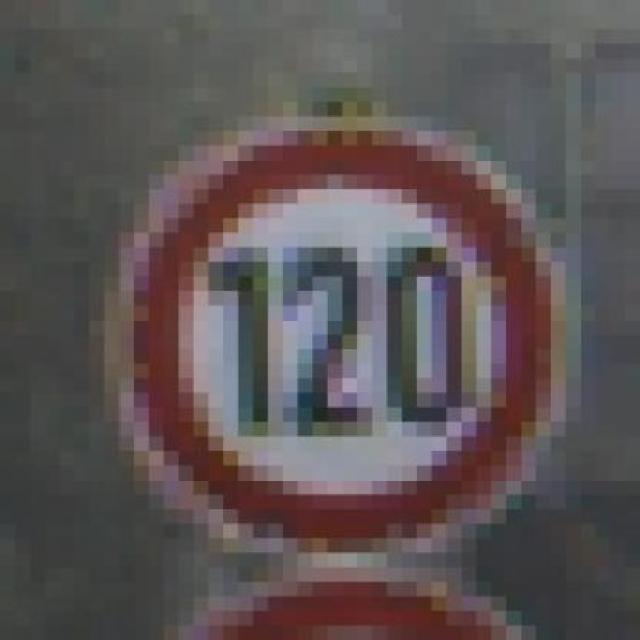forb_speed_over_120: (126, 128, 565, 550)
